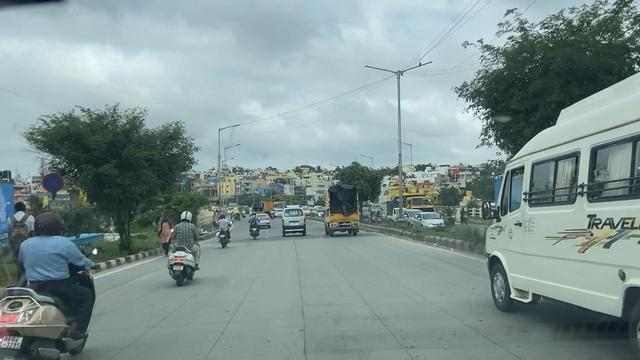HMV: (488, 123, 640, 353), (321, 179, 362, 242)
LMV: (22, 198, 101, 360), (162, 209, 200, 283), (275, 208, 304, 234), (213, 219, 232, 251)
